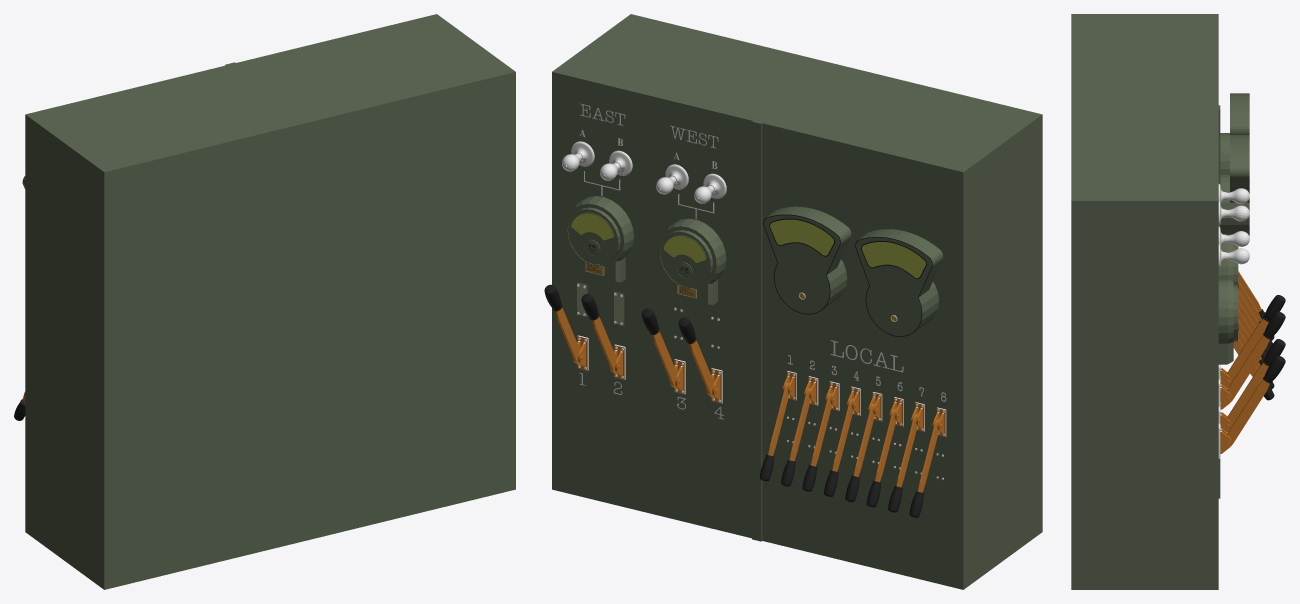
3 views of the same model, side by side, from view 1: azimuth 30°, elevation 25°; view 2: azimuth 150°, elevation 25°; view 3: azimuth 270°, elevation 25° (orthographic). The views are drawn at different scales.
Visible parts, largest first — view 1: skpC819_001; view 2: skpC819_001, Component11_002, Component11_001, Component13_003, Component13_001, Component5_002, Component5_004, Component5_001, Component5_003, Component_007, Component_002, Component_001 (+5 smaller); view 3: skpC819_001, Component11_002, Component13_001, Component11_001, Component5_002, Component5_004, Component5_003, Component5_001, Component13_003, Component10_002, Component17_004.
Boxes of the visible parts, box(x1,y1,x2,y2) form: skpC819_001: box(25, 14, 515, 589); skpC819_001: box(552, 14, 1042, 589); Component11_002: box(763, 206, 851, 314); Component11_001: box(855, 229, 943, 336); Component13_003: box(658, 218, 726, 305); Component13_001: box(565, 196, 633, 282); Component5_002: box(641, 308, 677, 386); Component5_004: box(544, 284, 579, 363); Component5_001: box(678, 317, 714, 395); Component5_003: box(581, 293, 616, 372); Component_007: box(888, 414, 917, 512); Component_002: box(845, 404, 874, 502); Component_001: box(781, 388, 810, 486); skpC819_001: box(1071, 14, 1220, 589); Component11_002: box(1220, 135, 1249, 235); Component13_001: box(1218, 279, 1238, 364); Component11_001: box(1220, 93, 1249, 174); Component5_002: box(1226, 311, 1285, 401); Component5_004: box(1227, 355, 1285, 445); Component5_003: box(1227, 339, 1285, 426); Component5_001: box(1227, 295, 1285, 382); Component13_003: box(1218, 242, 1238, 288); Component10_002: box(1218, 423, 1231, 458); Component17_004: box(1226, 248, 1249, 264).
Size of the model in its own units: 2200 by 2134 by 1066.
